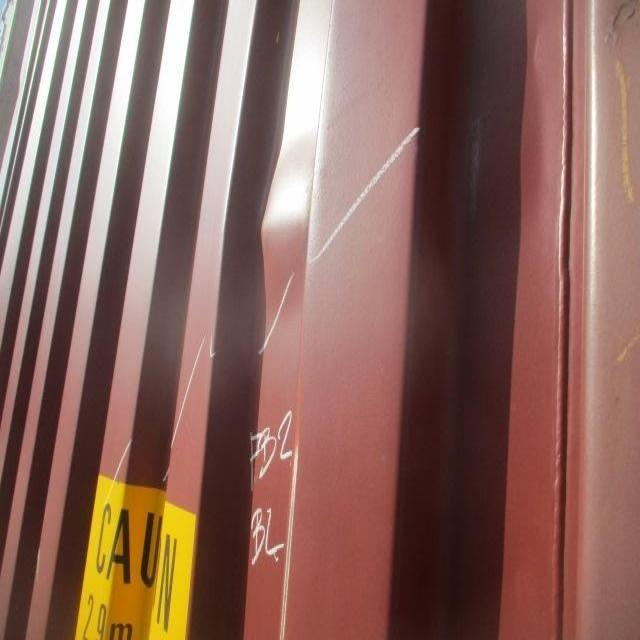dent: (213, 96, 326, 340)
